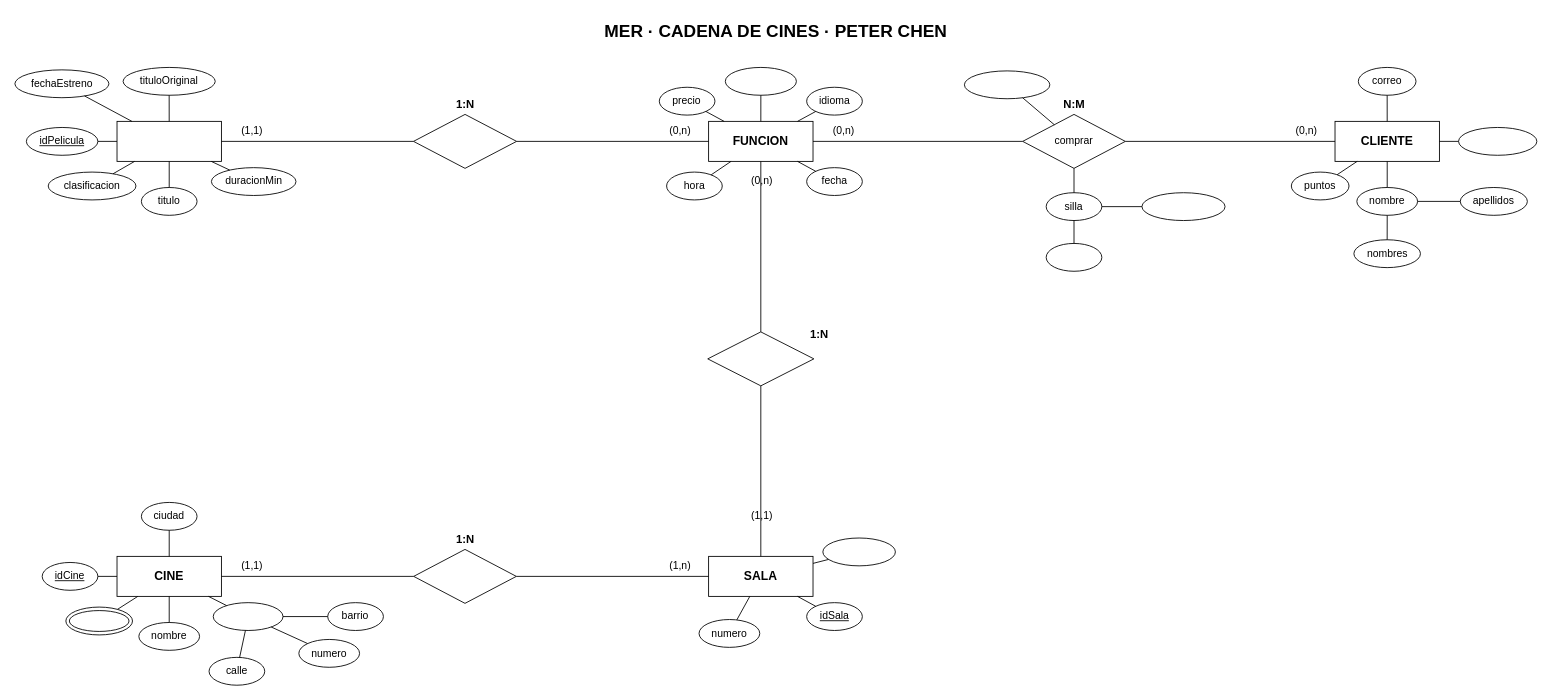
The diagram is 1553 pixels wide and 700 high, and some of its shapes have lost their labels. Here are the shapes that lost their labels. From the top down, the centre of each, then its label:
At [760,81]: "idFuncion".
At [1007,84]: "valorPagado".
At [168,140]: "PELICULA".
At [465,141]: "proyectar".
At [1497,141]: "documento".
At [1183,206]: "numeroSilla".
At [1073,257]: "fila".
At [760,358]: "programar".
At [858,551]: "capacidad".
At [464,576]: "tener".
At [99,620]: "telefono".
At [247,616]: "direccion".
